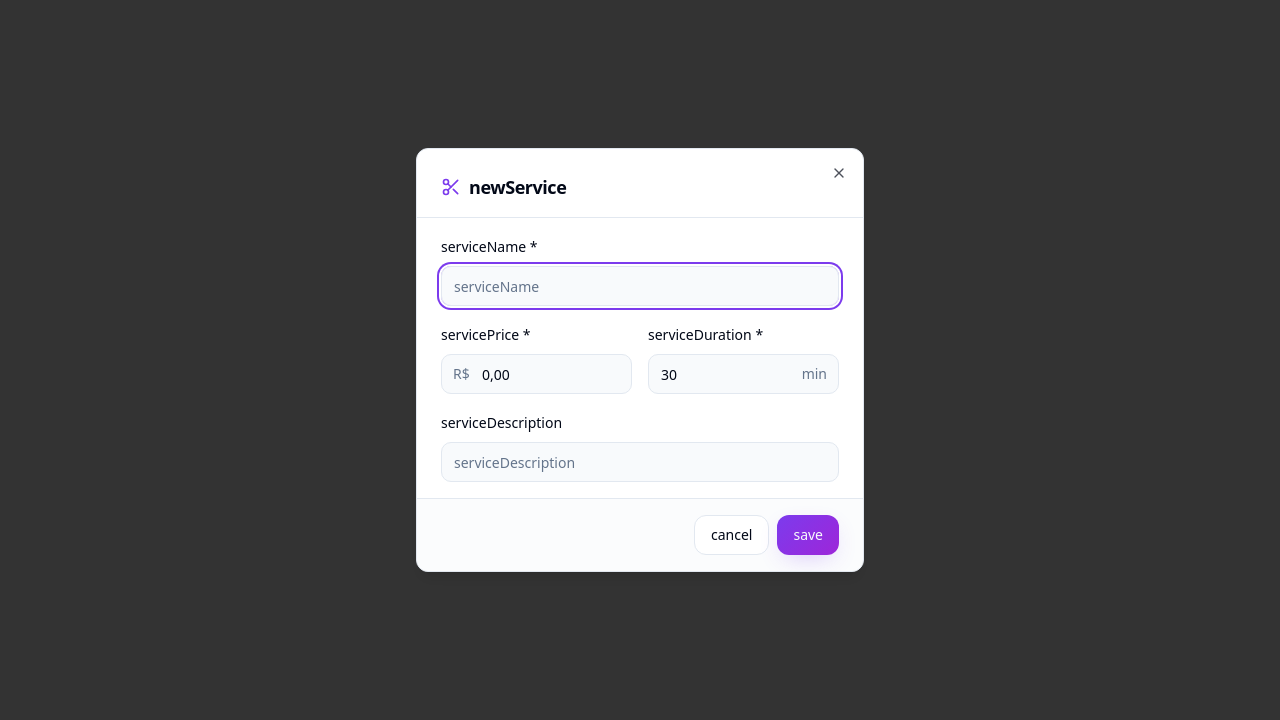
Test: ServiceFormDialog › clears field error when user types in that field
This screenshot has width=1280, height=720.
Clear the field labelled "serviceDuration *". click: (744, 374)
box: [648,354,839,394]
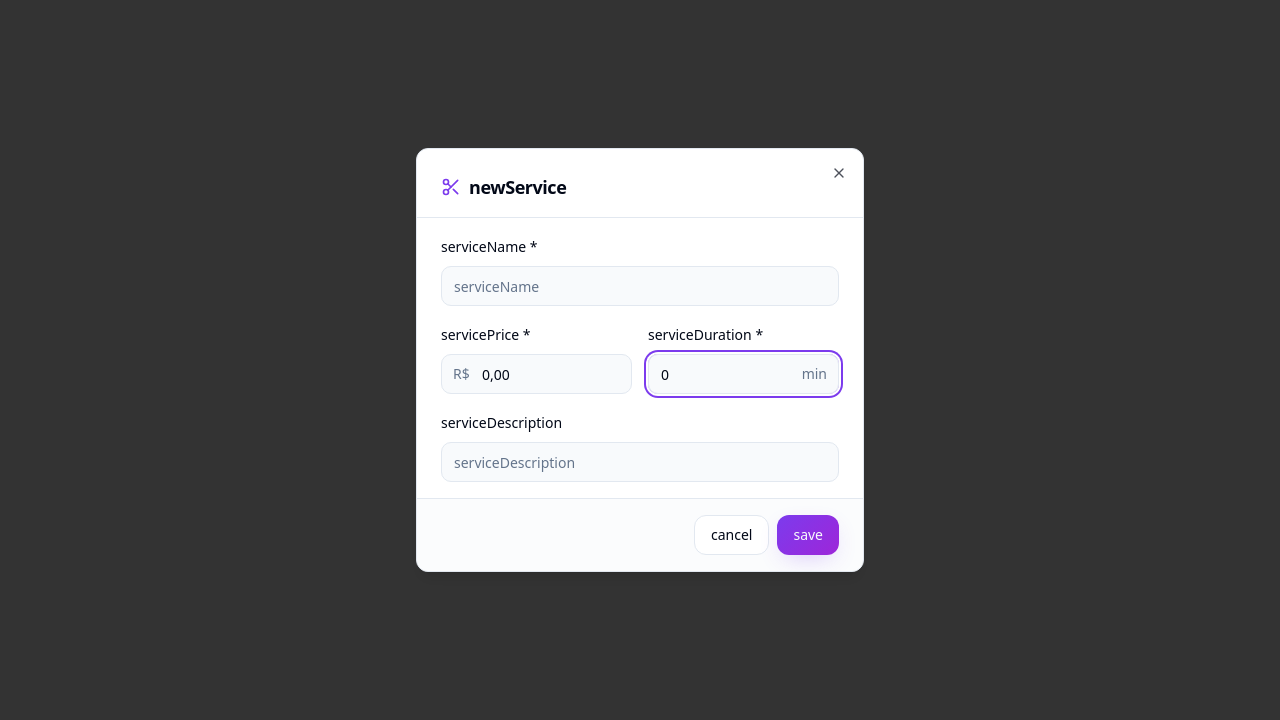
Click the button "save". click: (808, 535)
box: [777,515,839,555]
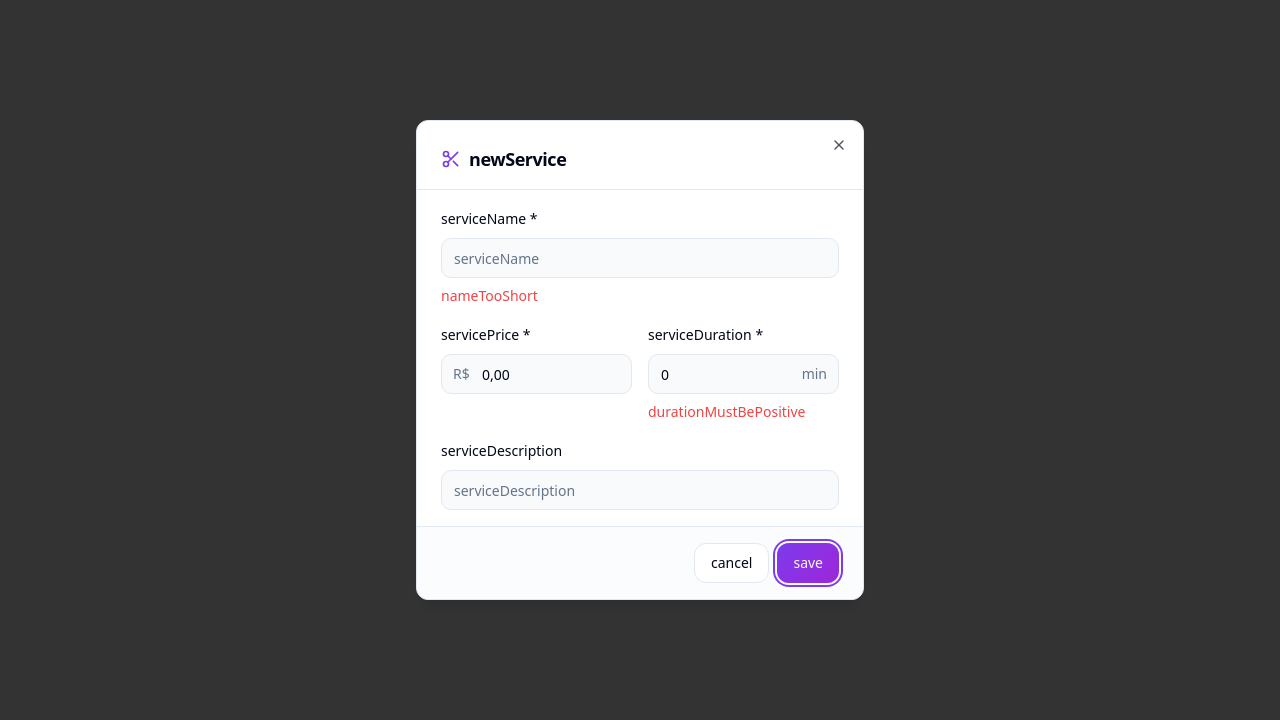
Expected: the text "nameTooShort" is shown, [441,286,538,305]
Type "Corte" into the field labelled "serviceName *". click: (640, 258)
box: [441,238,839,278]
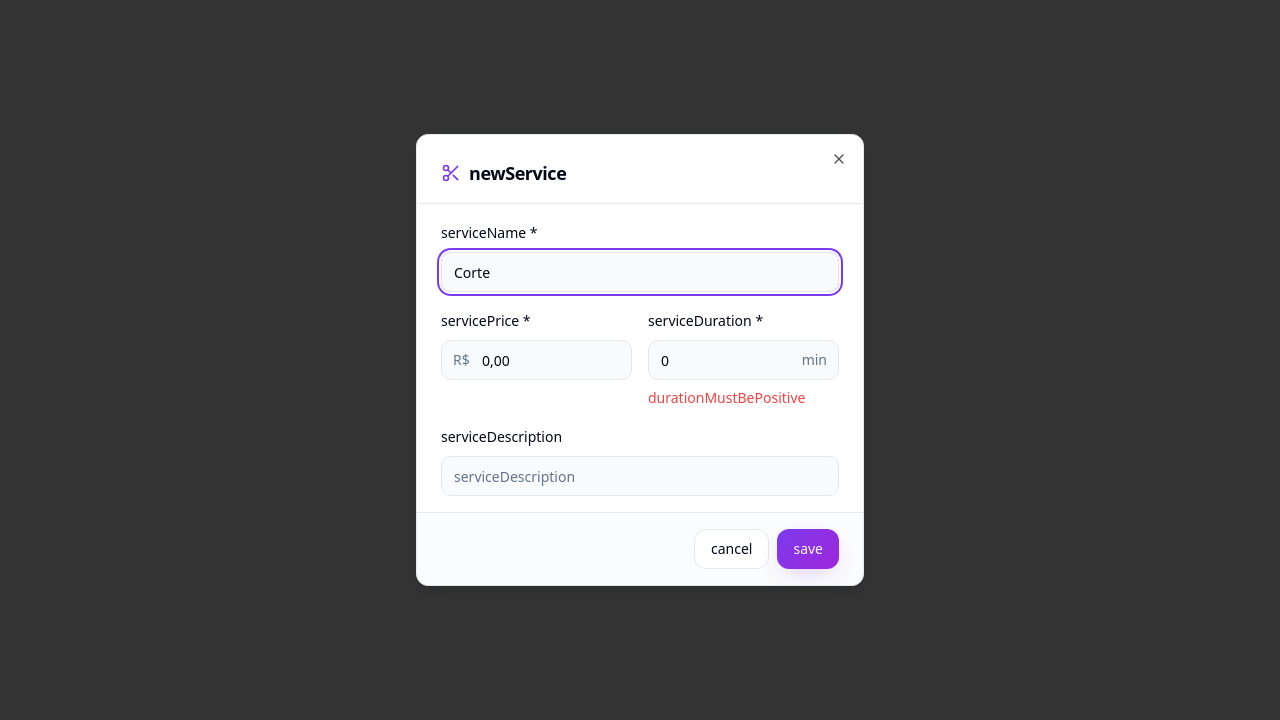
Expected: the text "nameTooShort" is gone
